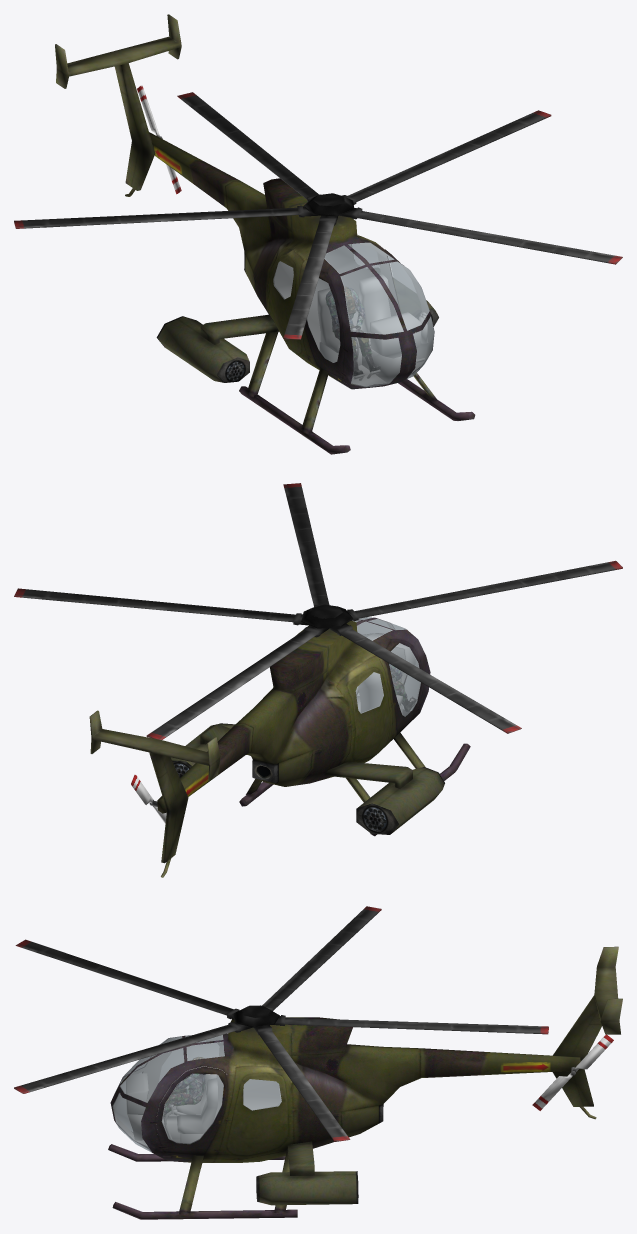
Rendered from HeliDoor1.fbx.
3 views of the same model, one above another, from view 1: azimuth 30°, elevation 25°; view 2: azimuth 150°, elevation 25°; view 3: azimuth 270°, elevation 25° (orthographic). The views are drawn at different scales.
Visible parts, largest first — view 1: Helicopter, Top_rotor, Glass, Cockpit, Canhões, Suporte, Pilot, Glass Door; view 2: Helicopter, Top_rotor, Canhões, Glass, Suporte, Cockpit; view 3: Helicopter, Top_rotor, Cockpit, Glass, Canhões, Glass Door, Door, Tail_Rotor, Pilot, Suporte.
Boxes of the visible parts, <box> form: Helicopter: <box>55,14,475,454</box>; Top_rotor: <box>14,92,622,339</box>; Glass: <box>273,242,434,387</box>; Cockpit: <box>273,243,433,386</box>; Canhões: <box>156,293,438,382</box>; Suporte: <box>200,278,396,344</box>; Pilot: <box>326,287,380,376</box>; Glass Door: <box>389,257,421,319</box>; Helicopter: <box>89,617,470,877</box>; Top_rotor: <box>14,483,622,739</box>; Canhões: <box>171,723,444,834</box>; Glass: <box>352,617,420,716</box>; Suporte: <box>200,724,412,788</box>; Cockpit: <box>356,619,420,716</box>; Helicopter: <box>108,946,622,1219</box>; Top_rotor: <box>14,906,548,1141</box>; Cockpit: <box>113,1035,281,1146</box>; Glass: <box>112,1035,281,1152</box>; Canhões: <box>256,1171,358,1205</box>; Glass Door: <box>162,1074,223,1144</box>; Door: <box>156,1066,230,1149</box>; Tail_Rotor: <box>532,1034,613,1110</box>; Pilot: <box>163,1057,205,1116</box>; Suporte: <box>287,1141,314,1175</box>.
Bounding box in the file's own units: 1191 × 491 × 1308.
